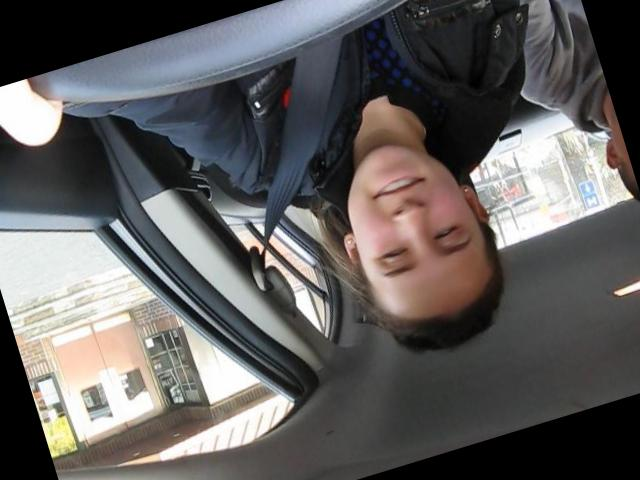eye_closed: (428, 216, 469, 248), (373, 243, 413, 270)
face: (328, 126, 491, 300)
